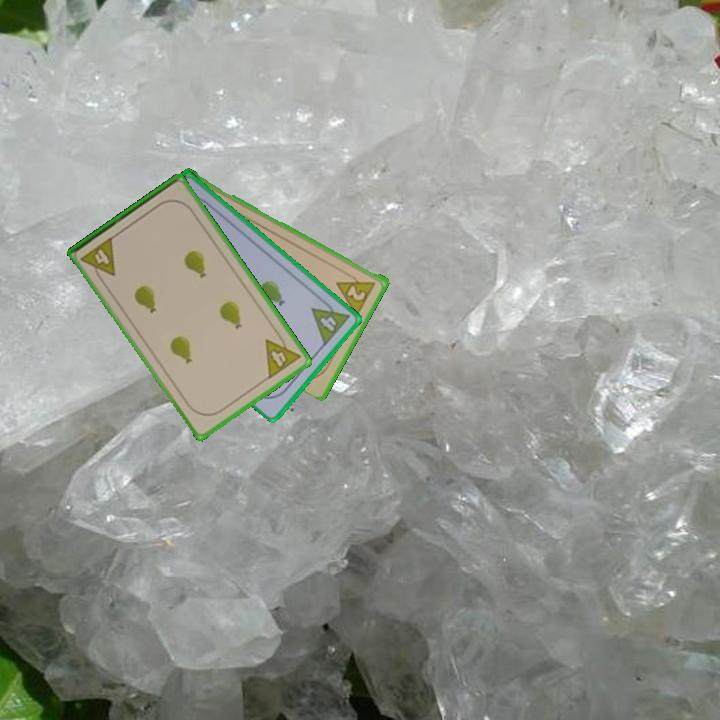2p: (333, 268, 379, 318)
4p: (308, 294, 353, 349), (262, 328, 303, 382), (77, 233, 119, 285)
